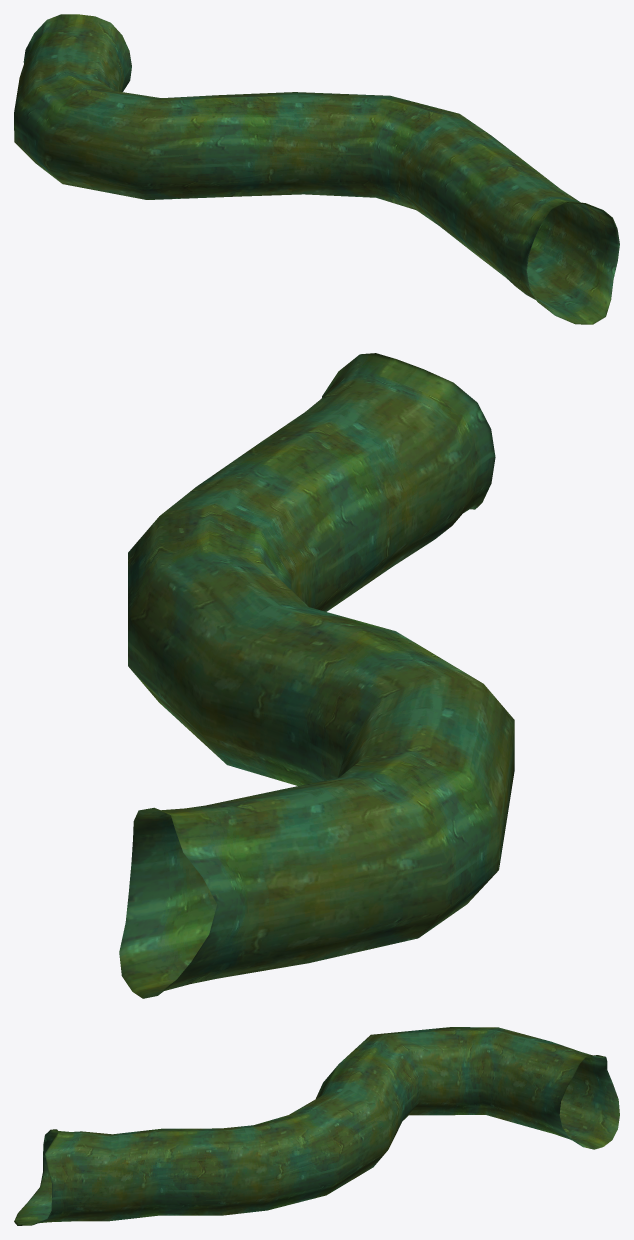
File: MIRKWOOD_MIRK_PLAYSURFACE91.fbx
3 renders of one model, top to bottom at view 1: azimuth 30°, elevation 25°; view 2: azimuth 150°, elevation 25°; view 3: azimuth 270°, elevation 25°, orthographic. The views are drawn at different scales.
Parts seen in each view (by area): view 1: MIRKWOOD_MIRK_PLAYSURFACE91; view 2: MIRKWOOD_MIRK_PLAYSURFACE91; view 3: MIRKWOOD_MIRK_PLAYSURFACE91.
Boxes of the visible parts, box(x1,y1,x2,y2) form: MIRKWOOD_MIRK_PLAYSURFACE91: box(14, 14, 619, 324); MIRKWOOD_MIRK_PLAYSURFACE91: box(119, 353, 514, 998); MIRKWOOD_MIRK_PLAYSURFACE91: box(14, 1027, 619, 1225).
Bounding box in the file's own units: 152695 × 48912 × 276796.
Materials: 1 (1 with a texture image).
